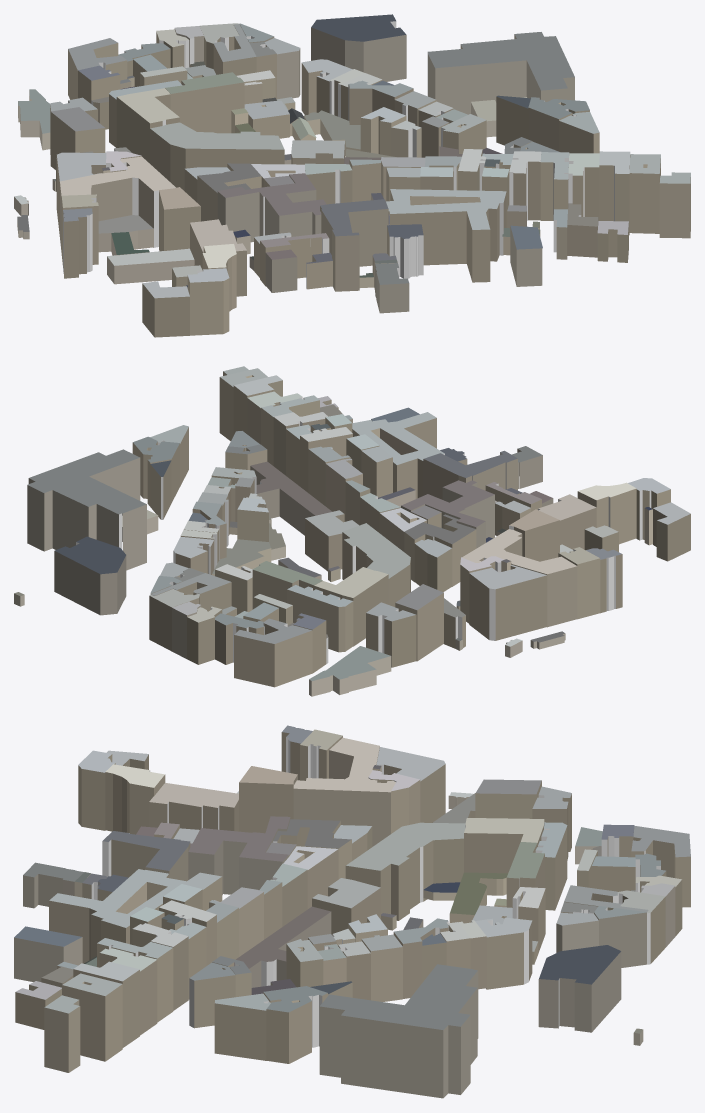
The picture shows the model from 3 angles, top to bottom: view 1: azimuth 30°, elevation 25°; view 2: azimuth 150°, elevation 25°; view 3: azimuth 270°, elevation 25°; orthographic projection. The views are drawn at different scales.
Parts seen in each view (by area): view 1: tuile; view 2: tuile; view 3: tuile.
Part boxes in pixels (x1,y1,x2,y2): tuile: (14, 14, 690, 337); tuile: (14, 366, 690, 696); tuile: (14, 725, 690, 1098).
Bounding box in the file's own units: 278 × 34.38 × 265.
